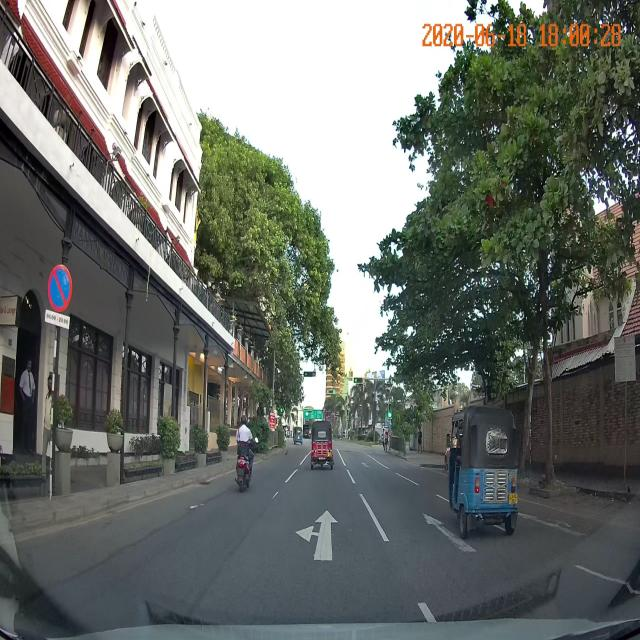forward_lft: (214, 492, 415, 586)
